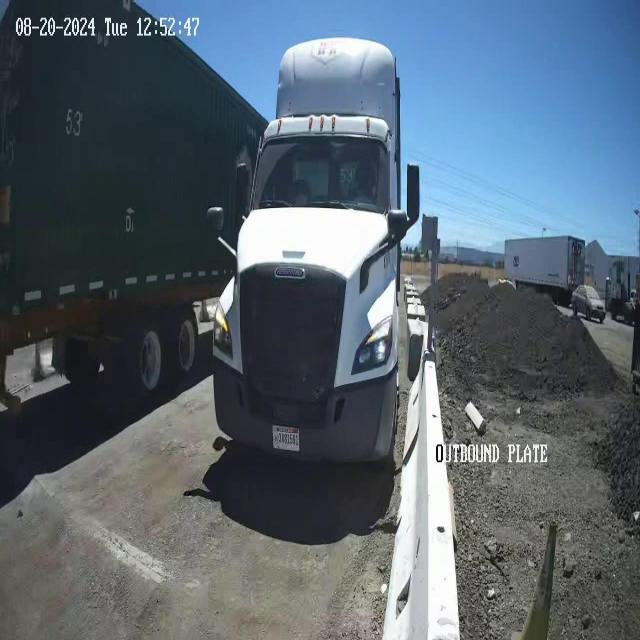TRUCK_IN: (211, 36, 420, 470)
